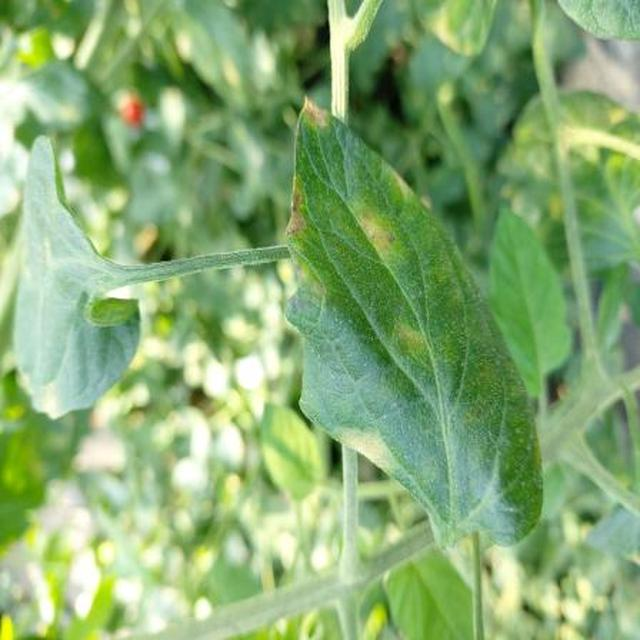Leaf Mold: (405, 139, 640, 640)
